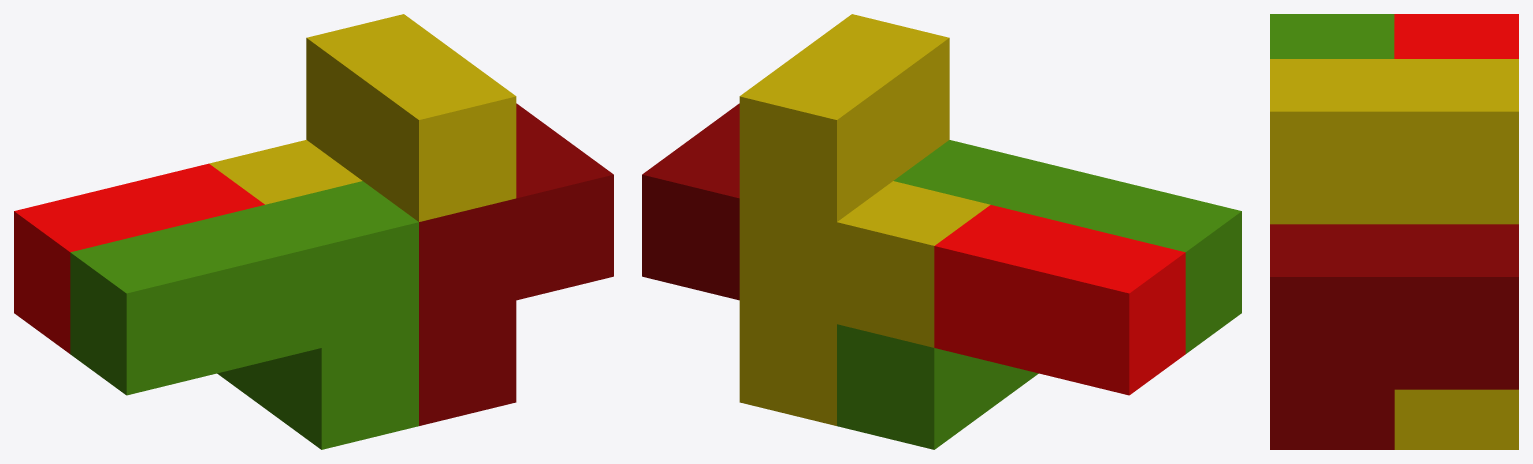
3 views of the same model, side by side, from view 1: azimuth 30°, elevation 25°; view 2: azimuth 150°, elevation 25°; view 3: azimuth 270°, elevation 25° (orthographic). The views are drawn at different scales.
Parts seen in each view (by area): view 1: mergedBlocks(Clone); view 2: mergedBlocks(Clone); view 3: mergedBlocks(Clone).
Boxes of the visible parts, x1=… form: mergedBlocks(Clone): x1=14, y1=14, x2=613, y2=449; mergedBlocks(Clone): x1=642, y1=14, x2=1241, y2=449; mergedBlocks(Clone): x1=1270, y1=14, x2=1518, y2=449.
Bounding box in the file's own units: 5 × 3 × 2.
Materials: 4 (4 with a texture image).
